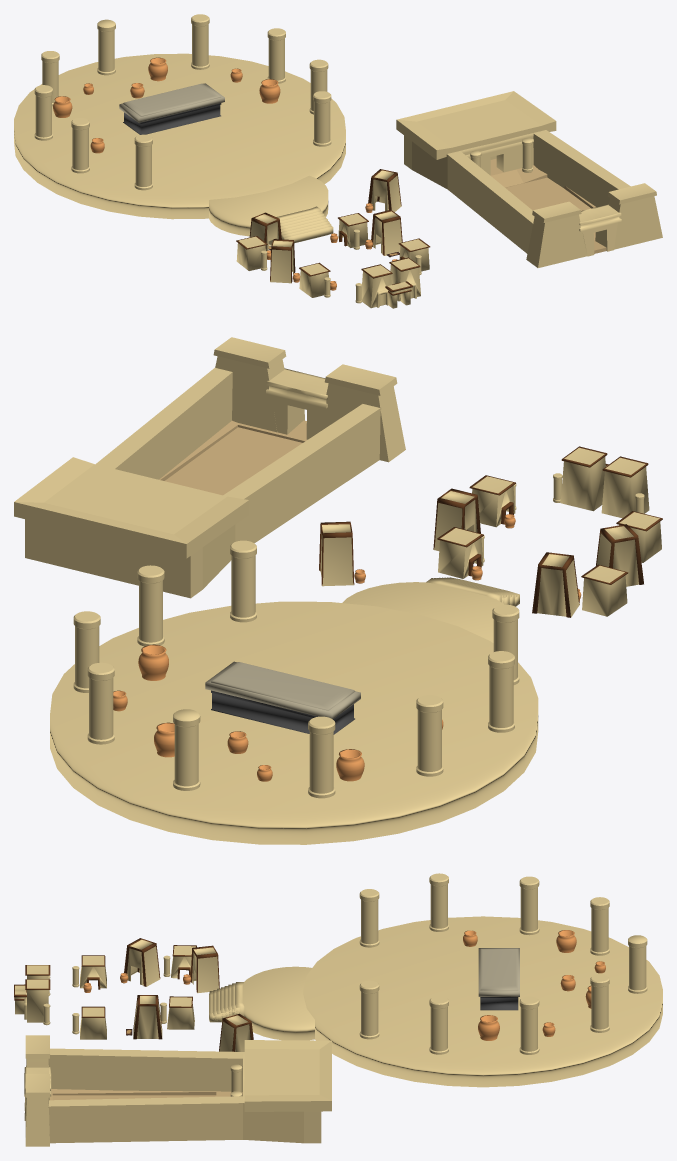
File: VILAEGITO21.fbx
3 renders of one model, top to bottom at view 1: azimuth 30°, elevation 25°; view 2: azimuth 150°, elevation 25°; view 3: azimuth 270°, elevation 25°, orthographic. The views are drawn at different scales.
Parts seen in each view (by area): view 1: Cylinder.030, PAREDETEMPLO, Cube.011, ENTRADAFORA, Cylinder.031, CAIXAOSALAO, PATIOTEMPLO, ENTRADAVILAFORA, Cylinder.014, CASAVILA1.001, ENTRADADENTRO, CASAVILA1 (+16 smaller); view 2: Cylinder.030, PAREDETEMPLO, Cube.011, ENTRADAFORA, CAIXAOSALAO, PATIOTEMPLO, ENTRADAVILAFORA, Cylinder.031, CASAVILA1.001, Cylinder.014, ENTRADADENTRO, CASAVILA1 (+14 smaller); view 3: Cylinder.030, PAREDETEMPLO, Cube.011, Cylinder.031, ENTRADAFORA, CAIXAOSALAO, Cylinder.014, CASAVILA1, PATIOTEMPLO, CASAVILA1.001, ENTRADAVILAFORA, Cube.005 (+13 smaller).
Boxes of the visible parts, x1=… form: Cylinder.030: x1=14, y1=53, x2=345, y2=219; PAREDETEMPLO: x1=404, y1=130, x2=630, y2=253; Cube.011: x1=396, y1=91, x2=556, y2=159; ENTRADAFORA: x1=526, y1=183, x2=662, y2=267; Cylinder.031: x1=209, y1=175, x2=328, y2=236; CAIXAOSALAO: x1=119, y1=83, x2=224, y2=134; PATIOTEMPLO: x1=490, y1=158, x2=606, y2=253; ENTRADAVILAFORA: x1=361, y1=257, x2=420, y2=308; Cylinder.014: x1=134, y1=91, x2=331, y2=190; CASAVILA1.001: x1=236, y1=213, x2=368, y2=270; ENTRADADENTRO: x1=579, y1=204, x2=621, y2=256; CASAVILA1: x1=299, y1=238, x2=430, y2=297; Cylinder.030: x1=50, y1=601, x2=538, y2=844; PAREDETEMPLO: x1=25, y1=367, x2=381, y2=598; Cube.011: x1=14, y1=457, x2=248, y2=558; ENTRADAFORA: x1=213, y1=337, x2=405, y2=462; CAIXAOSALAO: x1=205, y1=661, x2=360, y2=734; PATIOTEMPLO: x1=159, y1=420, x2=307, y2=495; ENTRADAVILAFORA: x1=560, y1=446, x2=649, y2=518; Cylinder.031: x1=342, y1=582, x2=503, y2=642; CASAVILA1.001: x1=437, y1=527, x2=628, y2=616; Cylinder.014: x1=230, y1=540, x2=519, y2=684; ENTRADADENTRO: x1=266, y1=368, x2=328, y2=439; CASAVILA1: x1=469, y1=475, x2=662, y2=562; Cylinder.030: x1=303, y1=916, x2=662, y2=1087; PAREDETEMPLO: x1=48, y1=1048, x2=321, y2=1143; Cube.011: x1=244, y1=1040, x2=331, y2=1111; Cylinder.031: x1=242, y1=966, x2=314, y2=1040; ENTRADAFORA: x1=25, y1=1035, x2=49, y2=1146; CAIXAOSALAO: x1=478, y1=948, x2=519, y2=1010; Cylinder.014: x1=359, y1=889, x2=379, y2=1039; CASAVILA1: x1=80, y1=955, x2=106, y2=1039; PATIOTEMPLO: x1=50, y1=1089, x2=242, y2=1100; CASAVILA1.001: x1=167, y1=945, x2=196, y2=1029; ENTRADAVILAFORA: x1=24, y1=965, x2=50, y2=1022; Cube.005: x1=124, y1=938, x2=160, y2=986.
Size of the model in its own units: 4633 by 771 by 6044.
